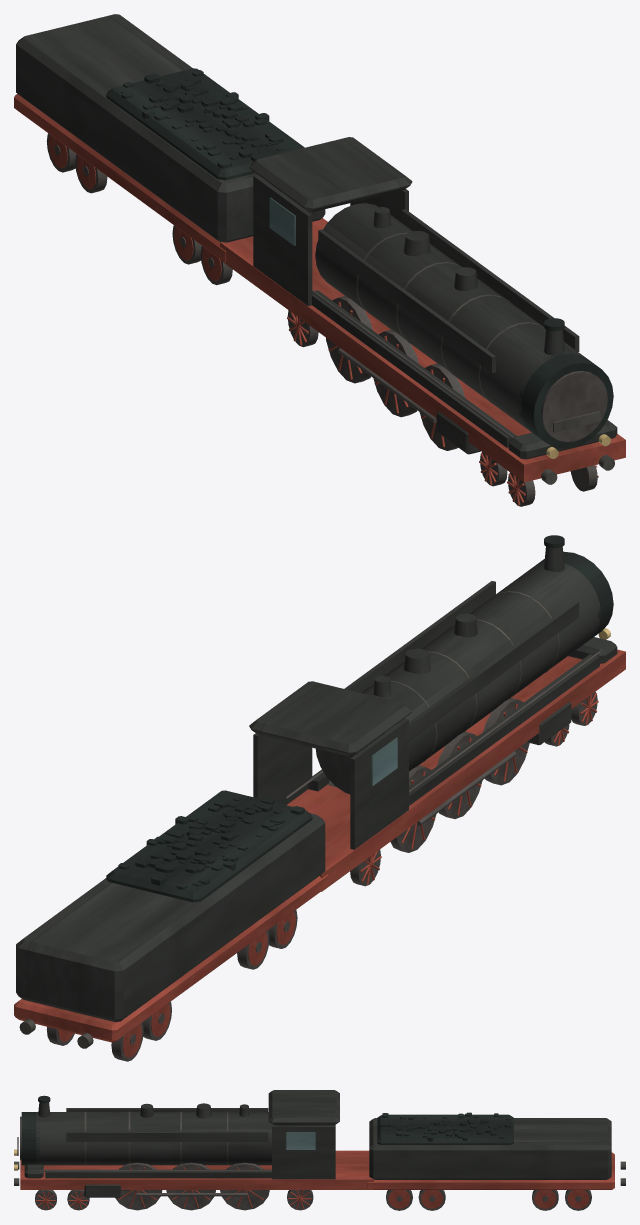
Rendered from drb-01-10.glb.
3 renders of one model, top to bottom at view 1: azimuth 30°, elevation 25°; view 2: azimuth 150°, elevation 25°; view 3: azimuth 270°, elevation 25°, orthographic. The views are drawn at different scales.
Parts seen in each view (by area): view 1: DRB Baureihe 01.10; view 2: DRB Baureihe 01.10; view 3: DRB Baureihe 01.10.
Part boxes in pixels (bbox=[...]): DRB Baureihe 01.10: bbox=[14, 14, 625, 506]; DRB Baureihe 01.10: bbox=[14, 535, 625, 1061]; DRB Baureihe 01.10: bbox=[14, 1090, 625, 1210].
Size of the model in its own units: 2.8 by 4.36 by 23.69.
1 material, 1 textured.
